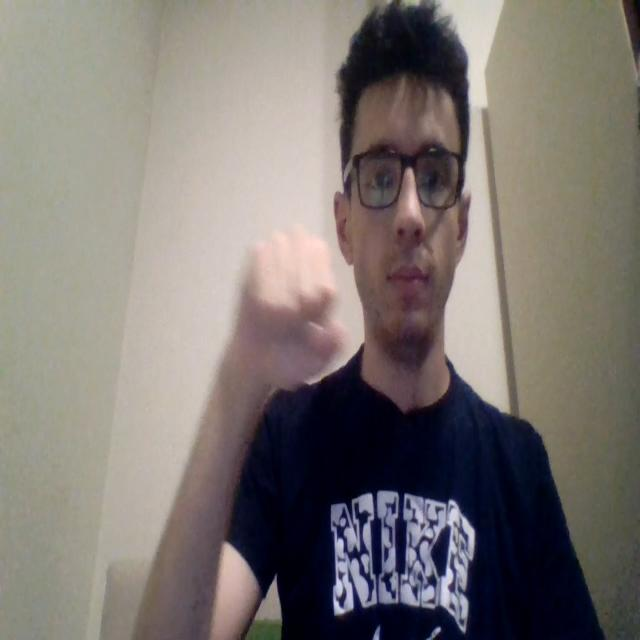yes: (236, 224, 346, 390)
